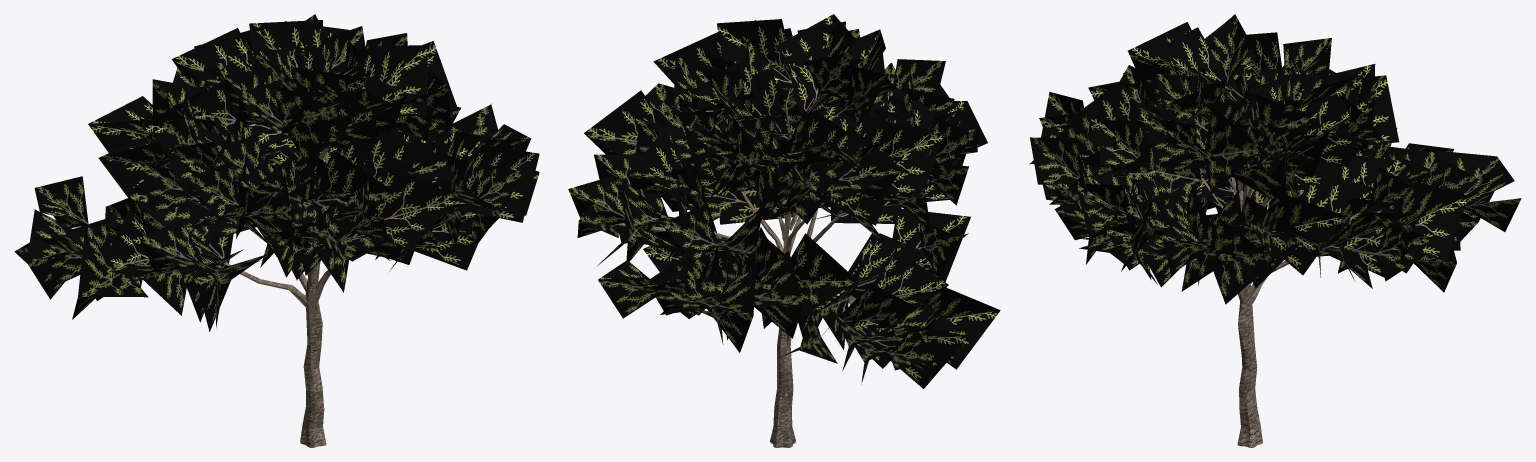
Rendered from Tree_LOD2.fbx.
3 views of the same model, side by side, from view 1: azimuth 30°, elevation 25°; view 2: azimuth 150°, elevation 25°; view 3: azimuth 270°, elevation 25° (orthographic). The views are drawn at different scales.
Visible parts, largest first — view 1: tree_LOD2; view 2: tree_LOD2; view 3: tree_LOD2.
Boxes of the visible parts, x1,y1,x2,y2 form: tree_LOD2: [14, 14, 539, 447]; tree_LOD2: [568, 14, 1000, 447]; tree_LOD2: [1029, 14, 1521, 447].
Bounding box in the file's own units: 23.12 × 21.12 × 23.71.
